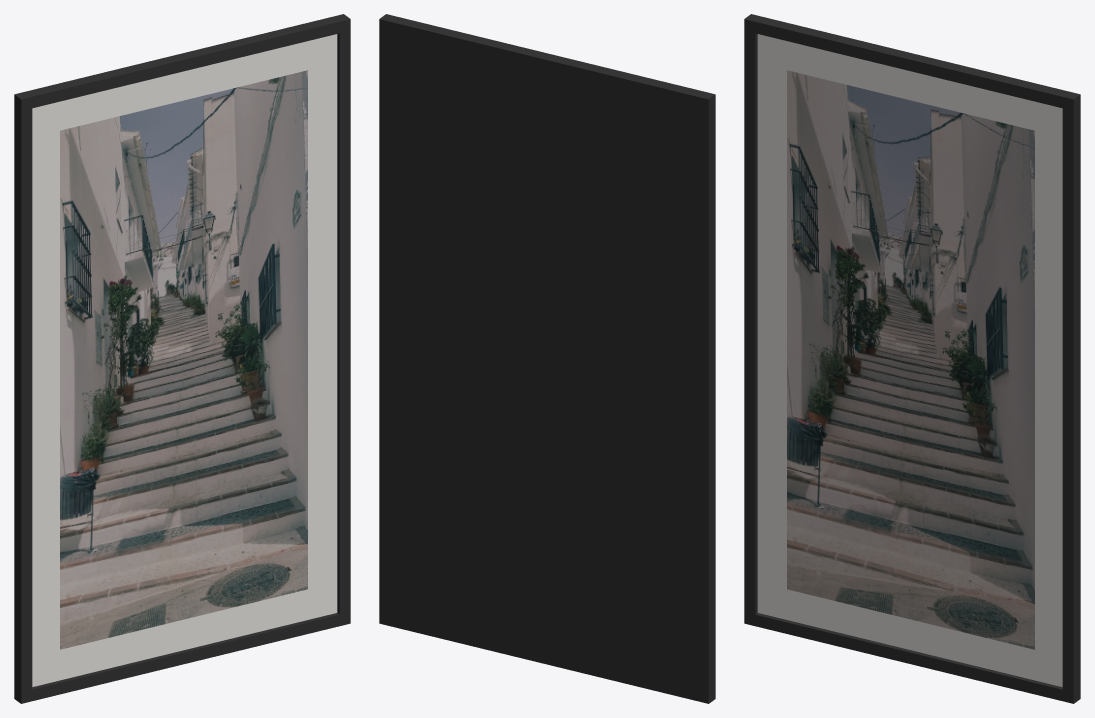
Rendered from uppfor-90.gltf.
3 views of the same model, side by side, from view 1: azimuth 30°, elevation 25°; view 2: azimuth 150°, elevation 25°; view 3: azimuth 330°, elevation 25° (orthographic).
Visible parts, largest first — view 1: tavla; view 2: tavla; view 3: tavla.
Boxes of the visible parts, x1,y1,x2,y2 form: tavla: (14,14,350,703); tavla: (379,14,715,703); tavla: (744,14,1080,703).
Bounding box in the file's own units: 0.598 × 1.05 × 0.022.
3 materials, 1 textured.
